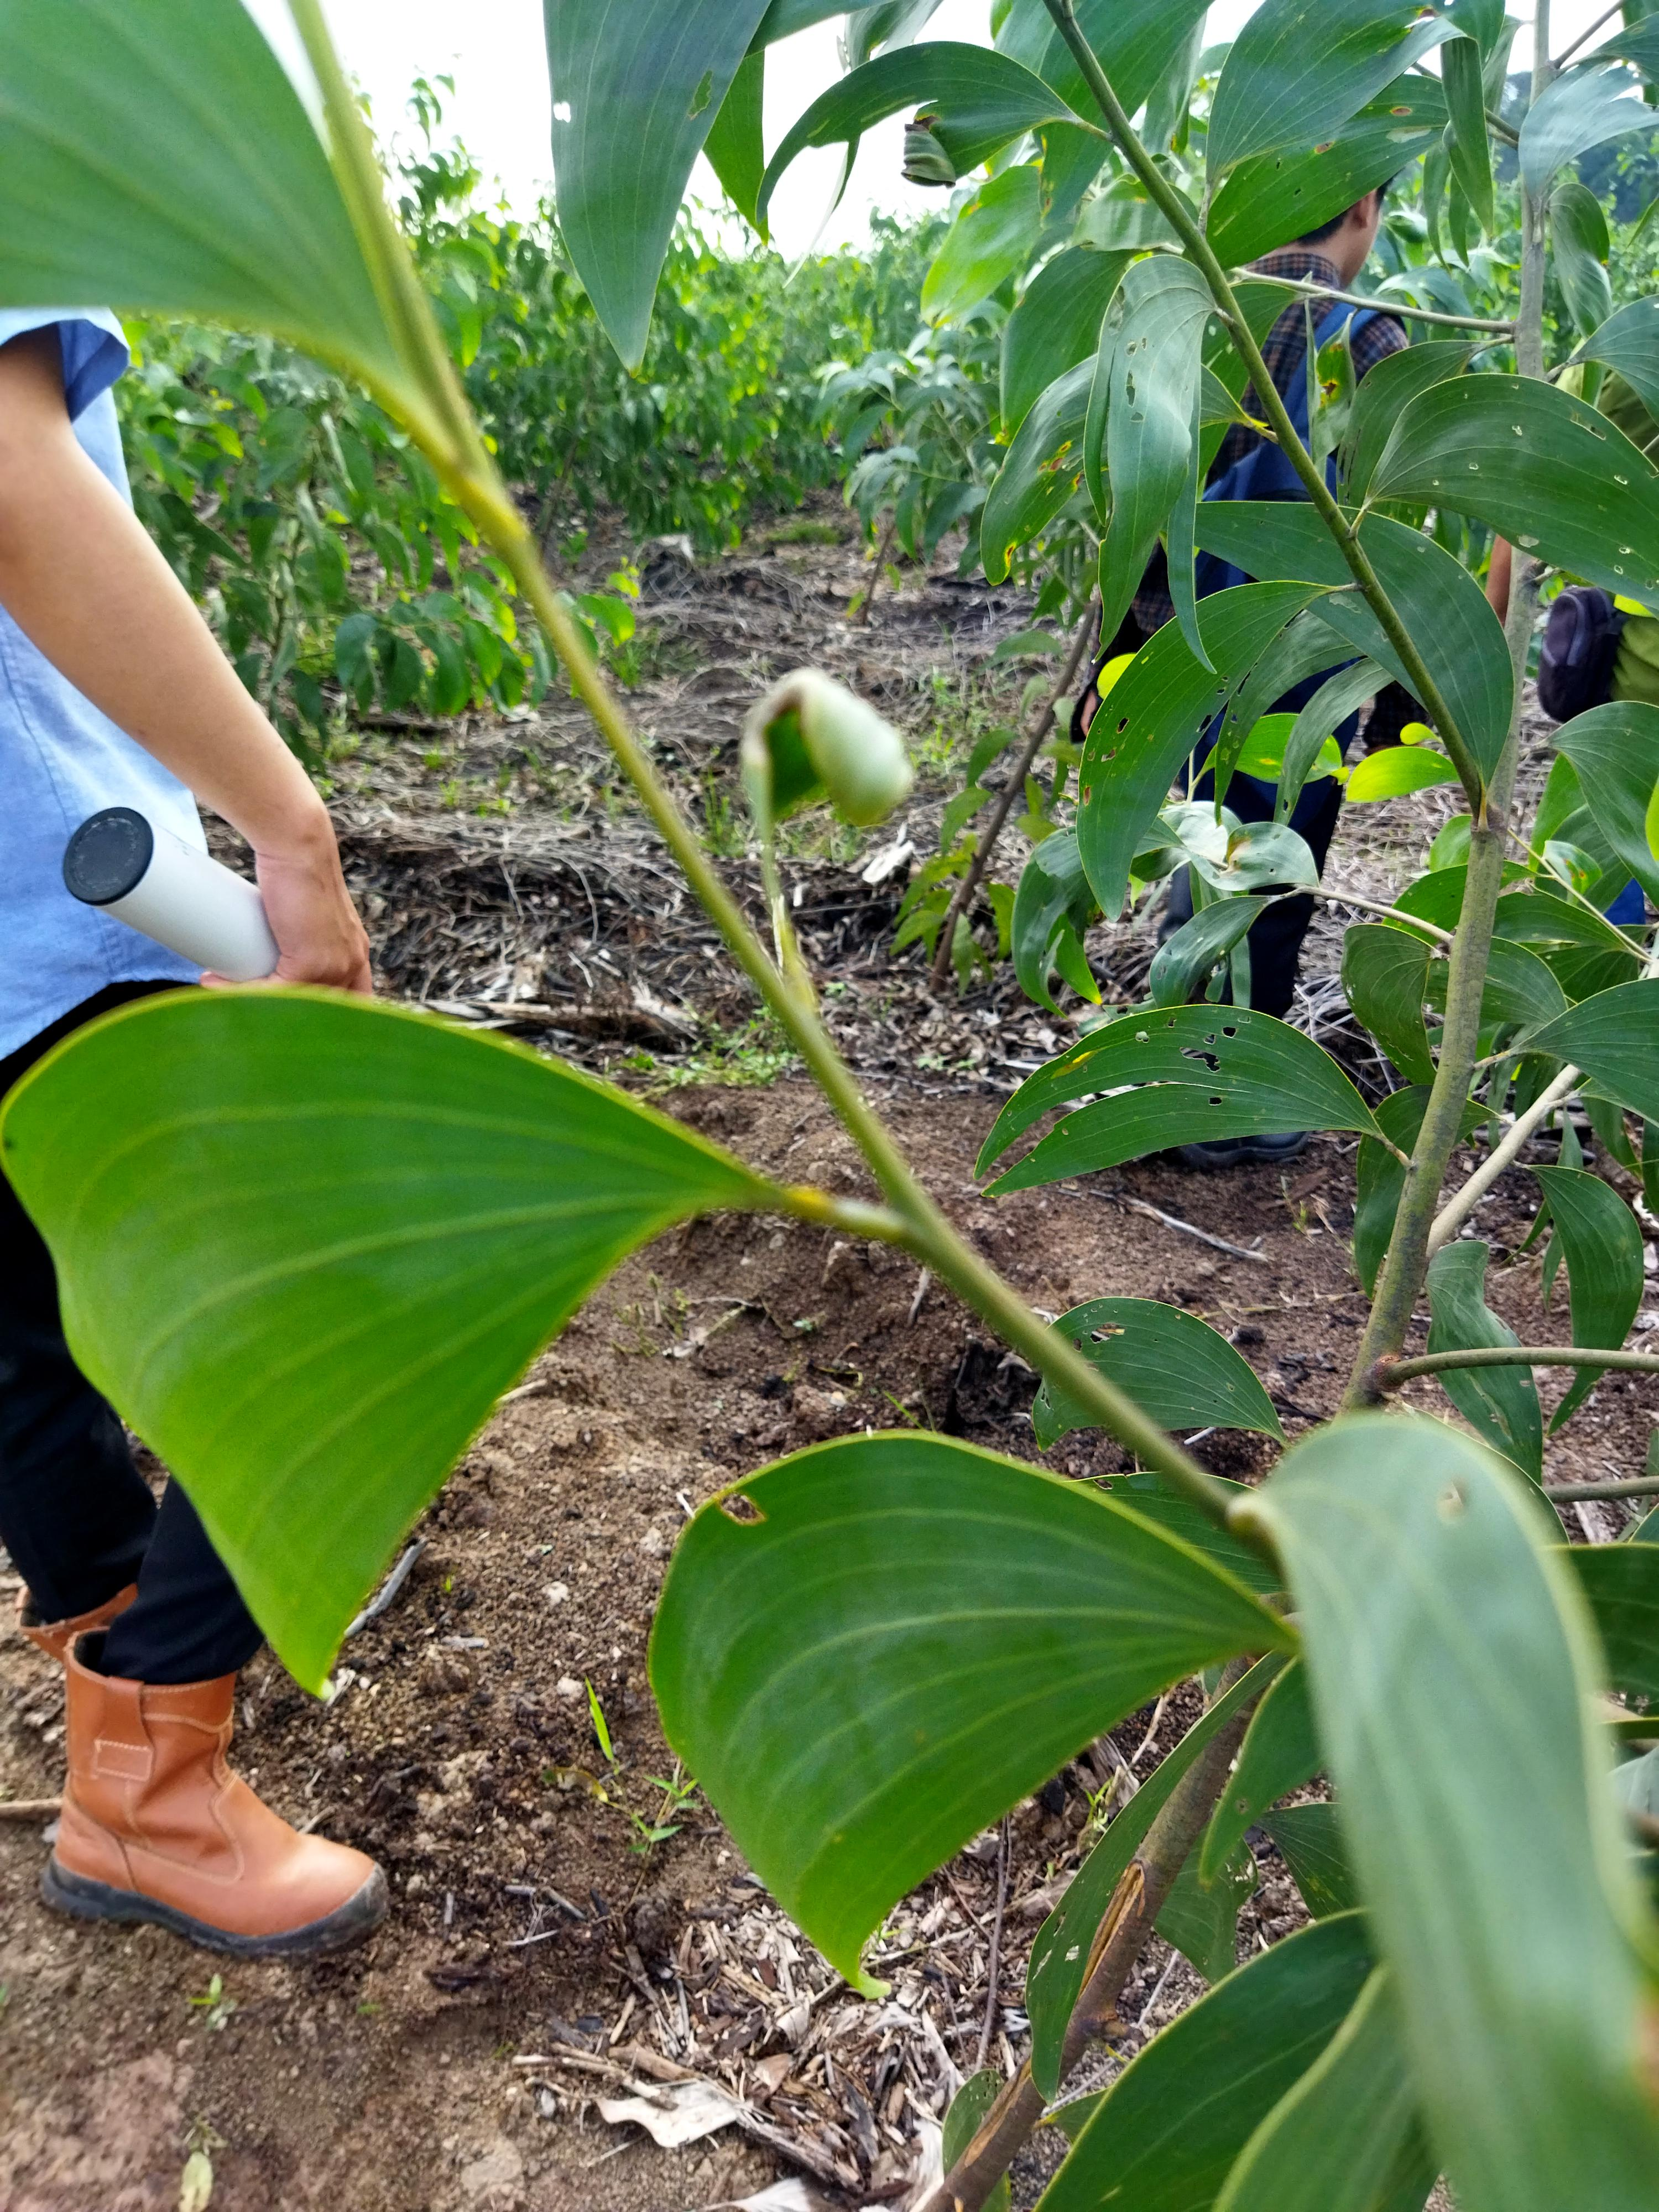Pasalora: (720, 671, 951, 902)
